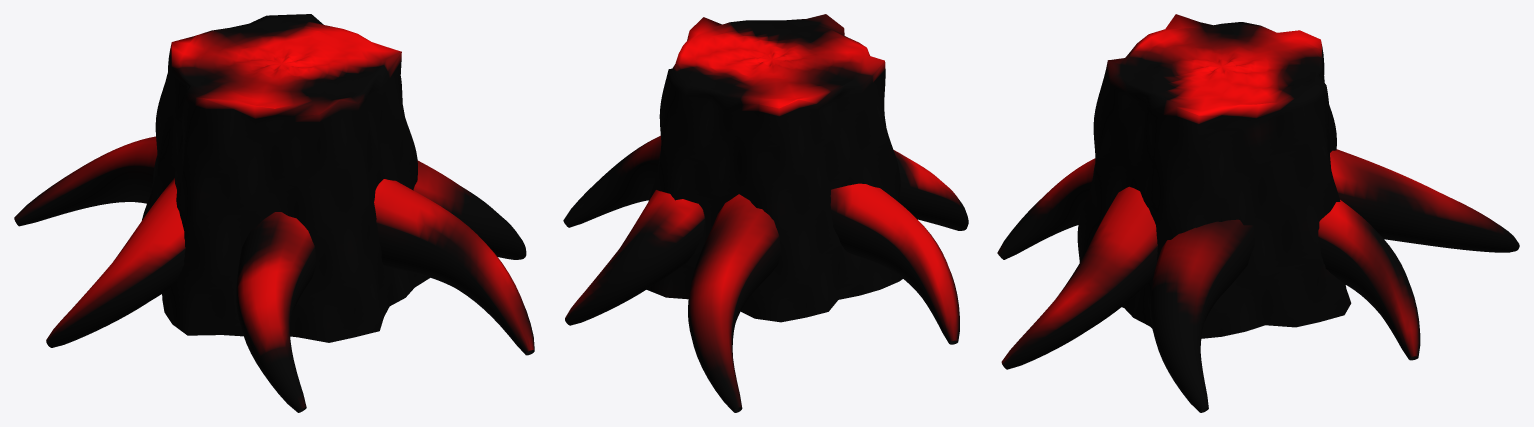
Rendered from SM_FallenLogStump_02.fbx.
3 views of the same model, side by side, from view 1: azimuth 30°, elevation 25°; view 2: azimuth 150°, elevation 25°; view 3: azimuth 270°, elevation 25° (orthographic). The views are drawn at different scales.
Visible parts, largest first — view 1: SM_FallenLogStump_02; view 2: SM_FallenLogStump_02; view 3: SM_FallenLogStump_02.
Part boxes in pixels (x1=…): SM_FallenLogStump_02: x1=14, y1=14, x2=534, y2=412; SM_FallenLogStump_02: x1=563, y1=14, x2=968, y2=412; SM_FallenLogStump_02: x1=997, y1=14, x2=1519, y2=412.
Size of the model in its own units: 254 by 261 by 135.
